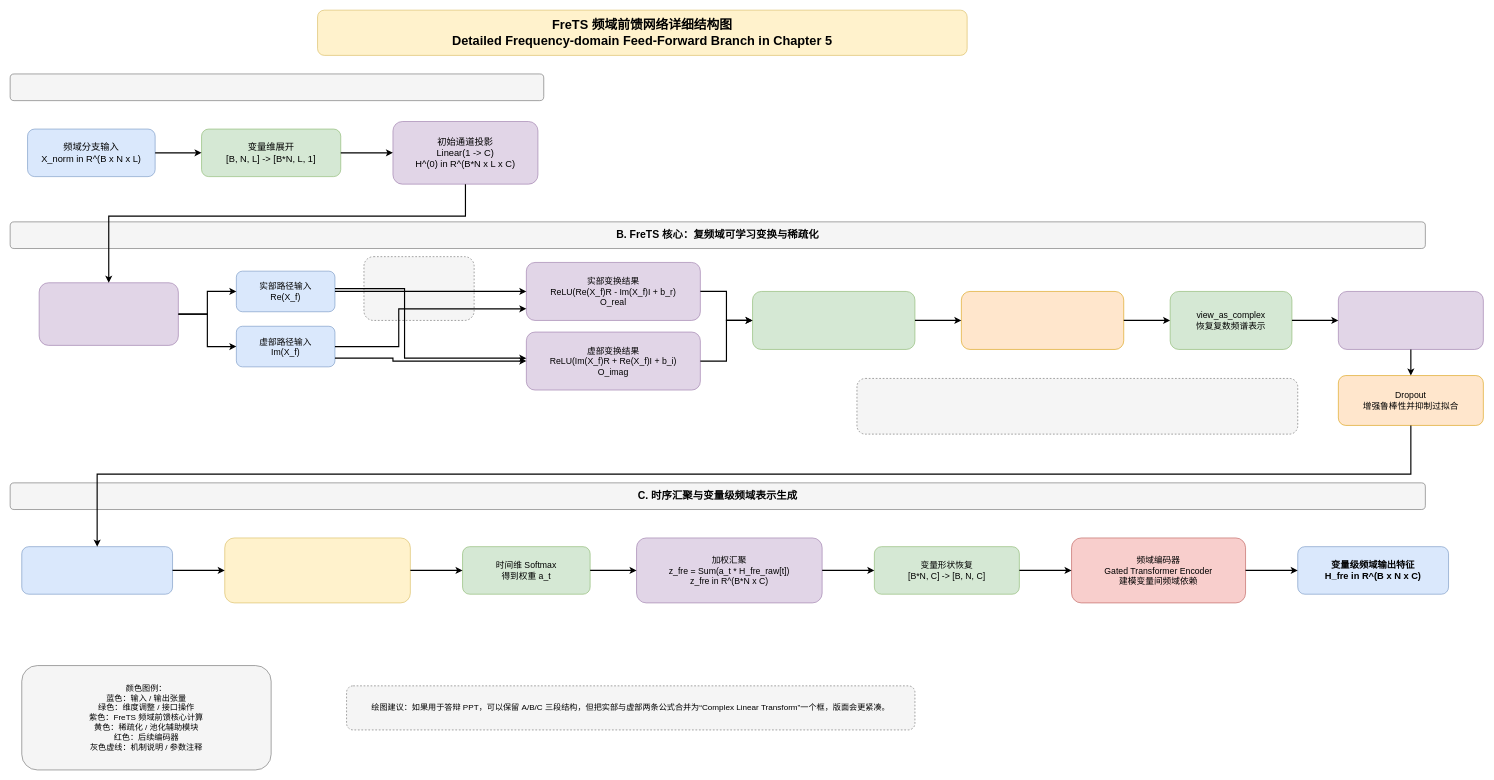
The diagram is 1494 pixels wide and 780 high, and some of its shapes have lost their labels. The shapes that lost their labels are listed below. From the top down, each one's centre as x and y in pixels, then its label:
At point (277, 87): "A. 输入整形与通道投影".
At point (418, 288): "可学习参数 R, I in R^(C x C) b_r, b_i in R^C scale = 0.018".
At point (108, 313): "RFFT 沿时间维进入复频域 X_f in C^(B*N x F x C)".
At point (833, 320): "复数对堆叠 Y_pair = Stack(O_real, O_imag) shape: [B*N, F, C, 2]".
At point (1042, 320): "SoftShrink 稀疏化 Y_sparse = SoftShrink(Y_pair, lambda) lambda = 0.009".
At point (1410, 320): "iRFFT 逆频域变换回时域 H_fre_raw in R^(B*N x L x C)".
At point (1077, 406): "机制解释：FreTS 不显式划分局部子带，而是在全局频谱上学习复数滤波响应， 通过软阈值保留主导频率、削弱弱噪声频率，更偏向周期性与长期趋势建模。".
At point (97, 570): "增强后的时频表示 H_fre_raw in R^(B*N x L x C)".
At point (317, 570): "注意力打分网络 Linear(C -> C/2) + ReLU + Linear(C/2 -> 1)".
